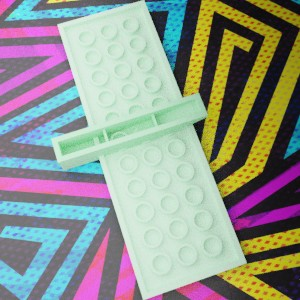lego: (57, 0, 246, 300), (51, 92, 207, 170)
